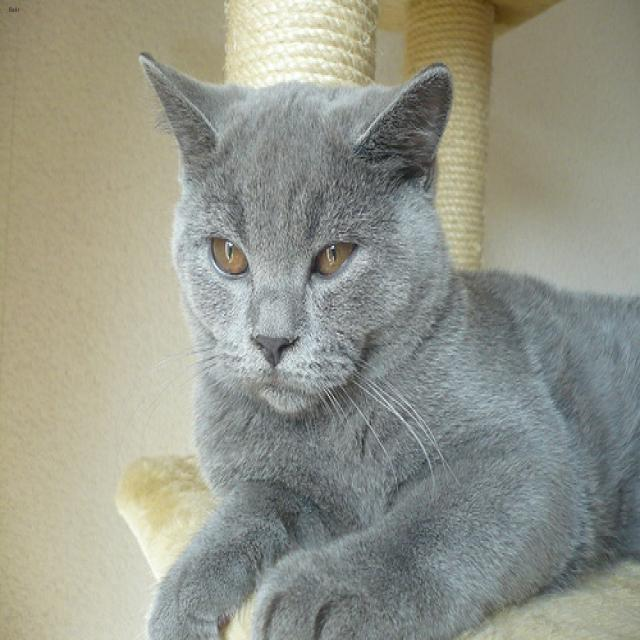cat: (137, 48, 449, 413)
